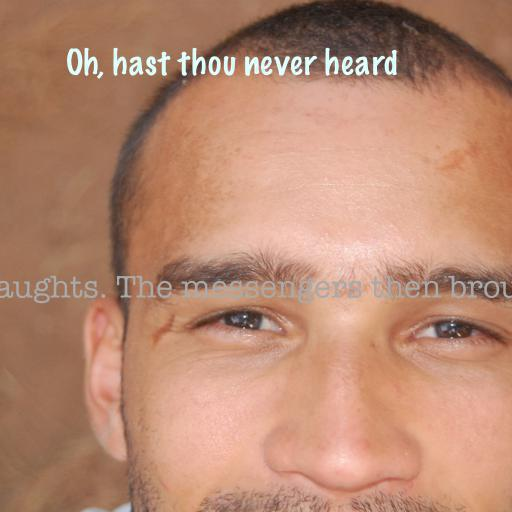American Typewriter: (0, 275, 512, 304)
Marker Felt: (66, 47, 398, 79)
